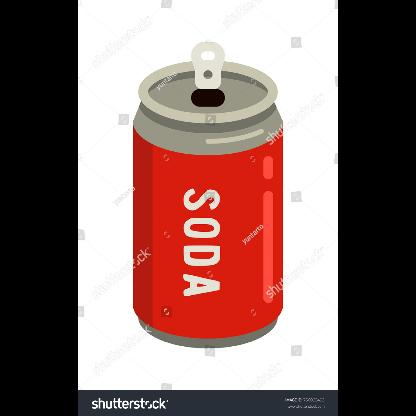Lid_Open: (166, 36, 242, 108)
Tin_Can: (129, 36, 285, 356)
